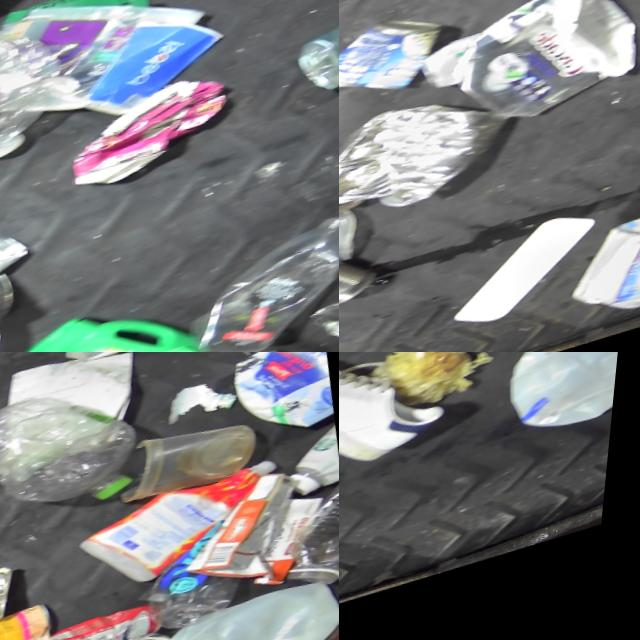can: (339, 7, 459, 124), (339, 235, 402, 335), (277, 21, 339, 120), (44, 605, 178, 640)
milk_jug: (495, 352, 630, 454), (558, 187, 640, 341), (130, 582, 339, 640)
non_white_jug: (81, 464, 301, 606), (24, 292, 215, 352)
plastic_bottle: (0, 377, 135, 549), (187, 216, 339, 352), (0, 14, 83, 192)
